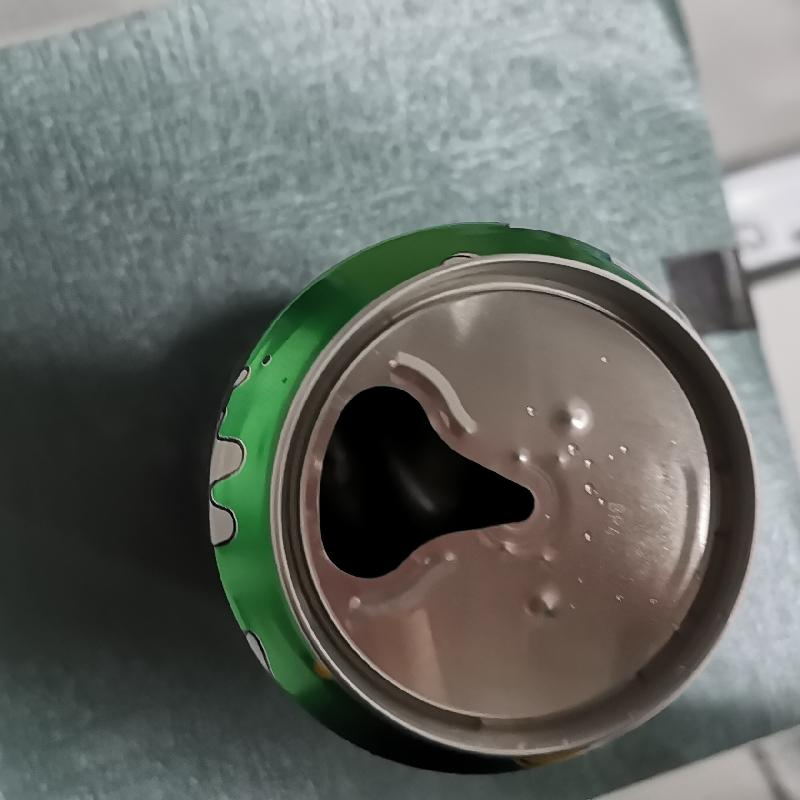cans: (210, 221, 761, 773)
